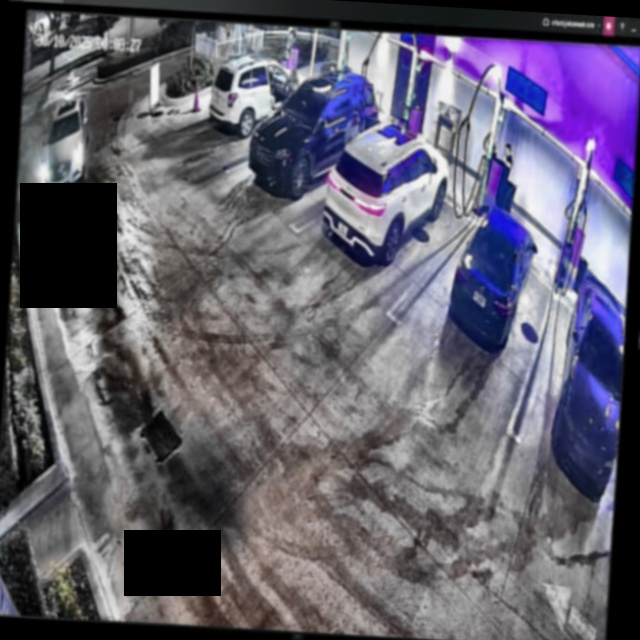Car: (322, 114, 451, 268), (246, 62, 381, 200), (447, 201, 540, 350)
